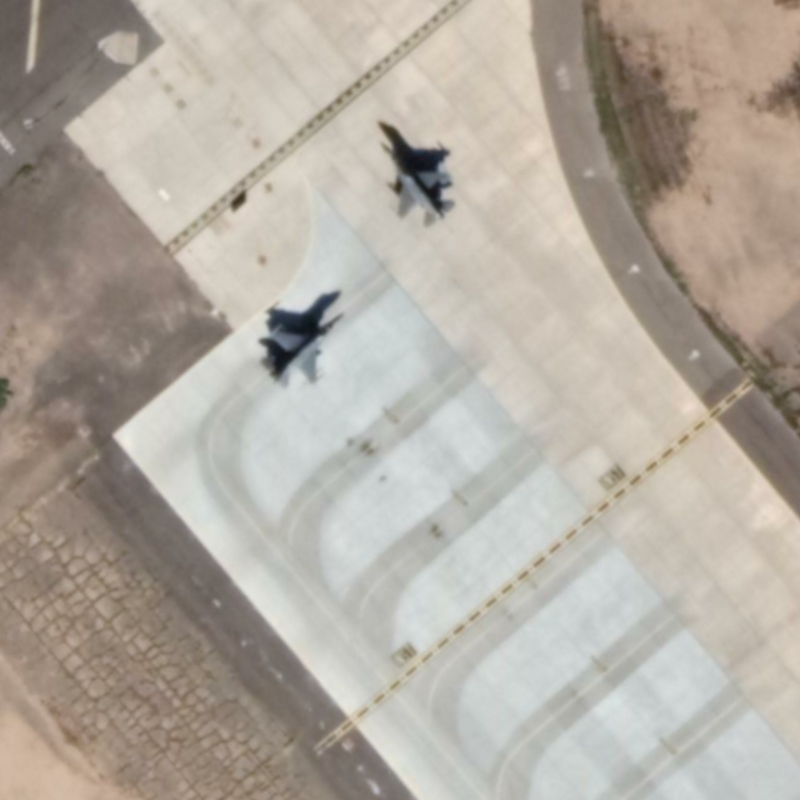A5: (376, 137, 459, 228), (261, 310, 348, 389)
